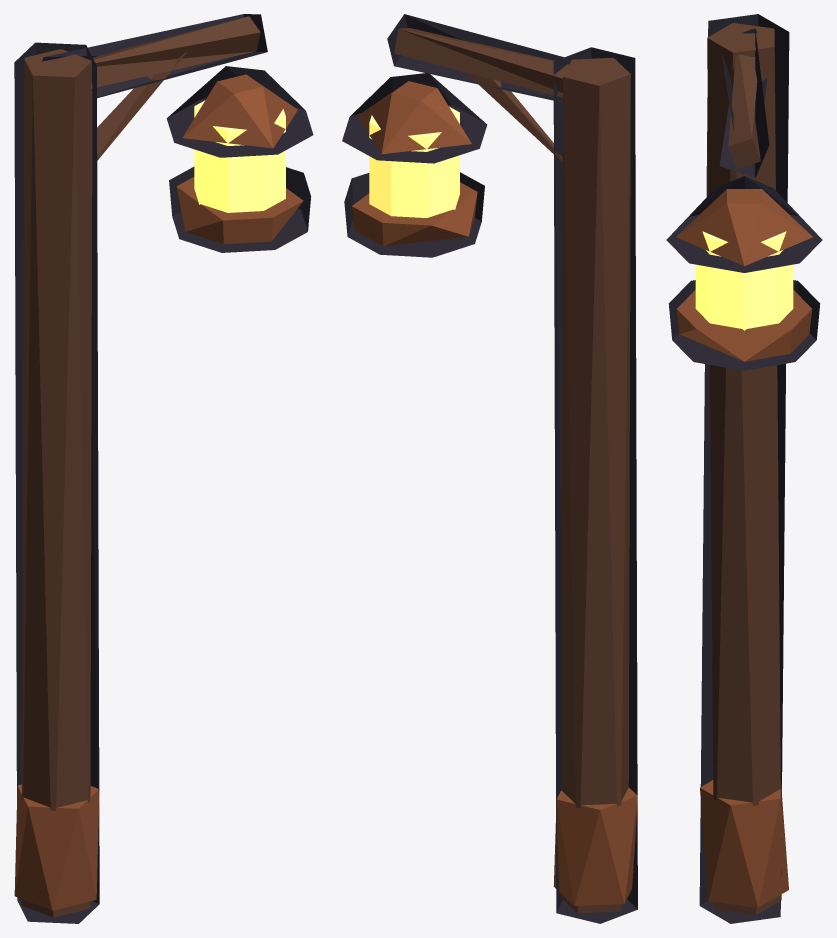
The model's file is lantern_post-lod1.glb.
3 renders of one model, left to right at view 1: azimuth 30°, elevation 25°; view 2: azimuth 150°, elevation 25°; view 3: azimuth 270°, elevation 25°, orthographic. The views are drawn at different scales.
Visible parts, largest first — view 1: lantern_post; view 2: lantern_post; view 3: lantern_post.
Boxes of the visible parts, left/top/right/bottom form: lantern_post: left=14, top=14, right=313, bottom=923; lantern_post: left=342, top=14, right=637, bottom=923; lantern_post: left=666, top=14, right=822, bottom=923.
Size of the model in its own units: 1.2 by 3.42 by 0.554.
